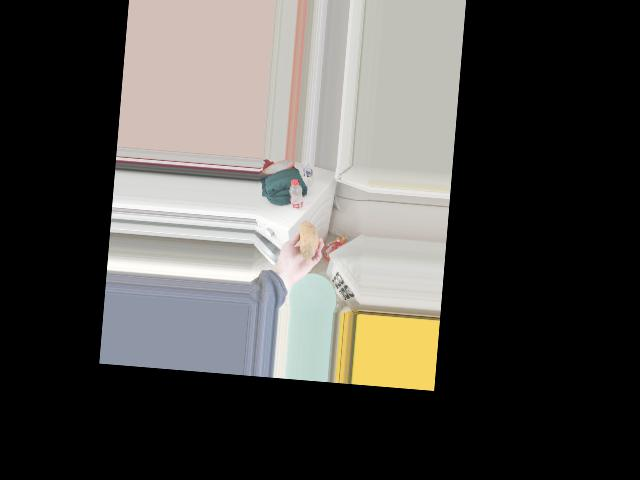sweet_potato: (294, 217, 317, 265)
